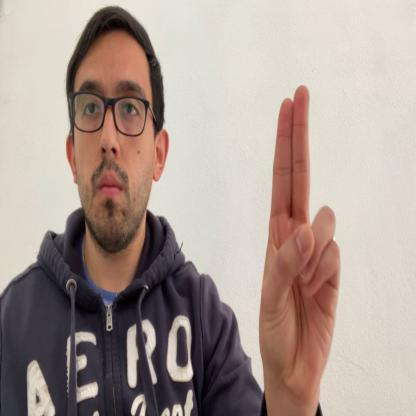U: (259, 86, 341, 395)
